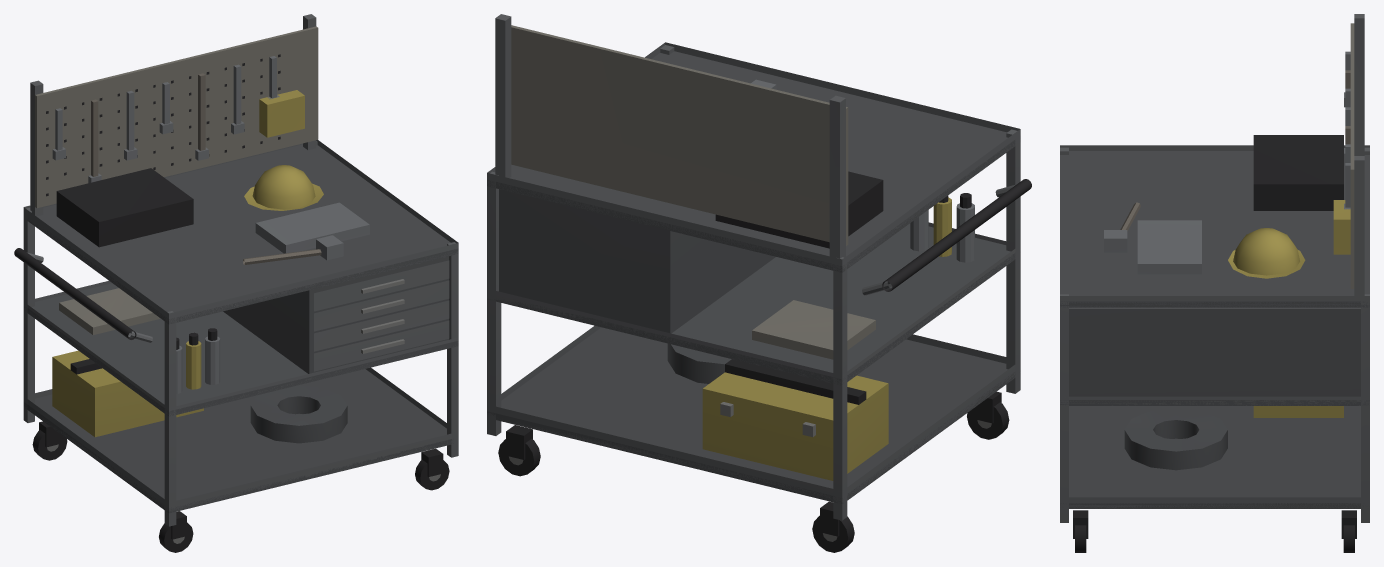
File: tool_cart.glb
3 views of the same model, side by side, from view 1: azimuth 30°, elevation 25°; view 2: azimuth 150°, elevation 25°; view 3: azimuth 270°, elevation 25° (orthographic). The views are drawn at different scales.
Parts seen in each view (by area): view 1: tool_cart; view 2: tool_cart; view 3: tool_cart.
Part boxes in pixels (bbox=[...]): tool_cart: bbox=[14, 14, 458, 552]; tool_cart: bbox=[487, 14, 1031, 552]; tool_cart: bbox=[1060, 14, 1369, 552].
Size of the model in its own units: 1.5 by 1.7 by 1.2.
